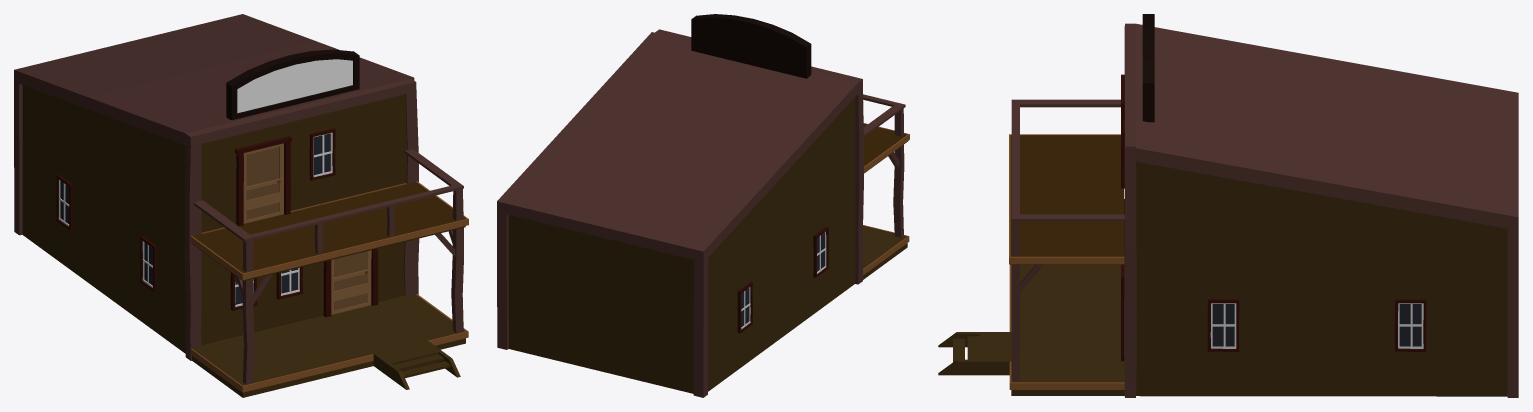
Rendered from Bank.fbx.
3 views of the same model, side by side, from view 1: azimuth 30°, elevation 25°; view 2: azimuth 150°, elevation 25°; view 3: azimuth 270°, elevation 25° (orthographic). The views are drawn at different scales.
Parts seen in each view (by area): view 1: Bank_Building; view 2: Bank_Building; view 3: Bank_Building.
Boxes of the visible parts, left/top/right/bottom form: Bank_Building: left=14, top=14, right=468, bottom=397; Bank_Building: left=497, top=14, right=909, bottom=397; Bank_Building: left=938, top=14, right=1518, bottom=397.
Bounding box in the file's own units: 781 × 874 × 1532.
